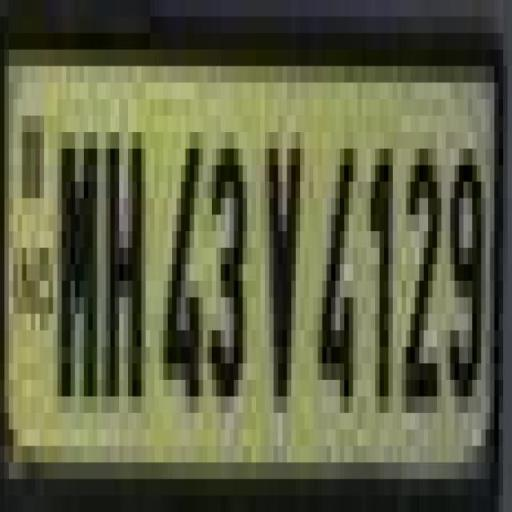number plate: (0, 32, 503, 512)
